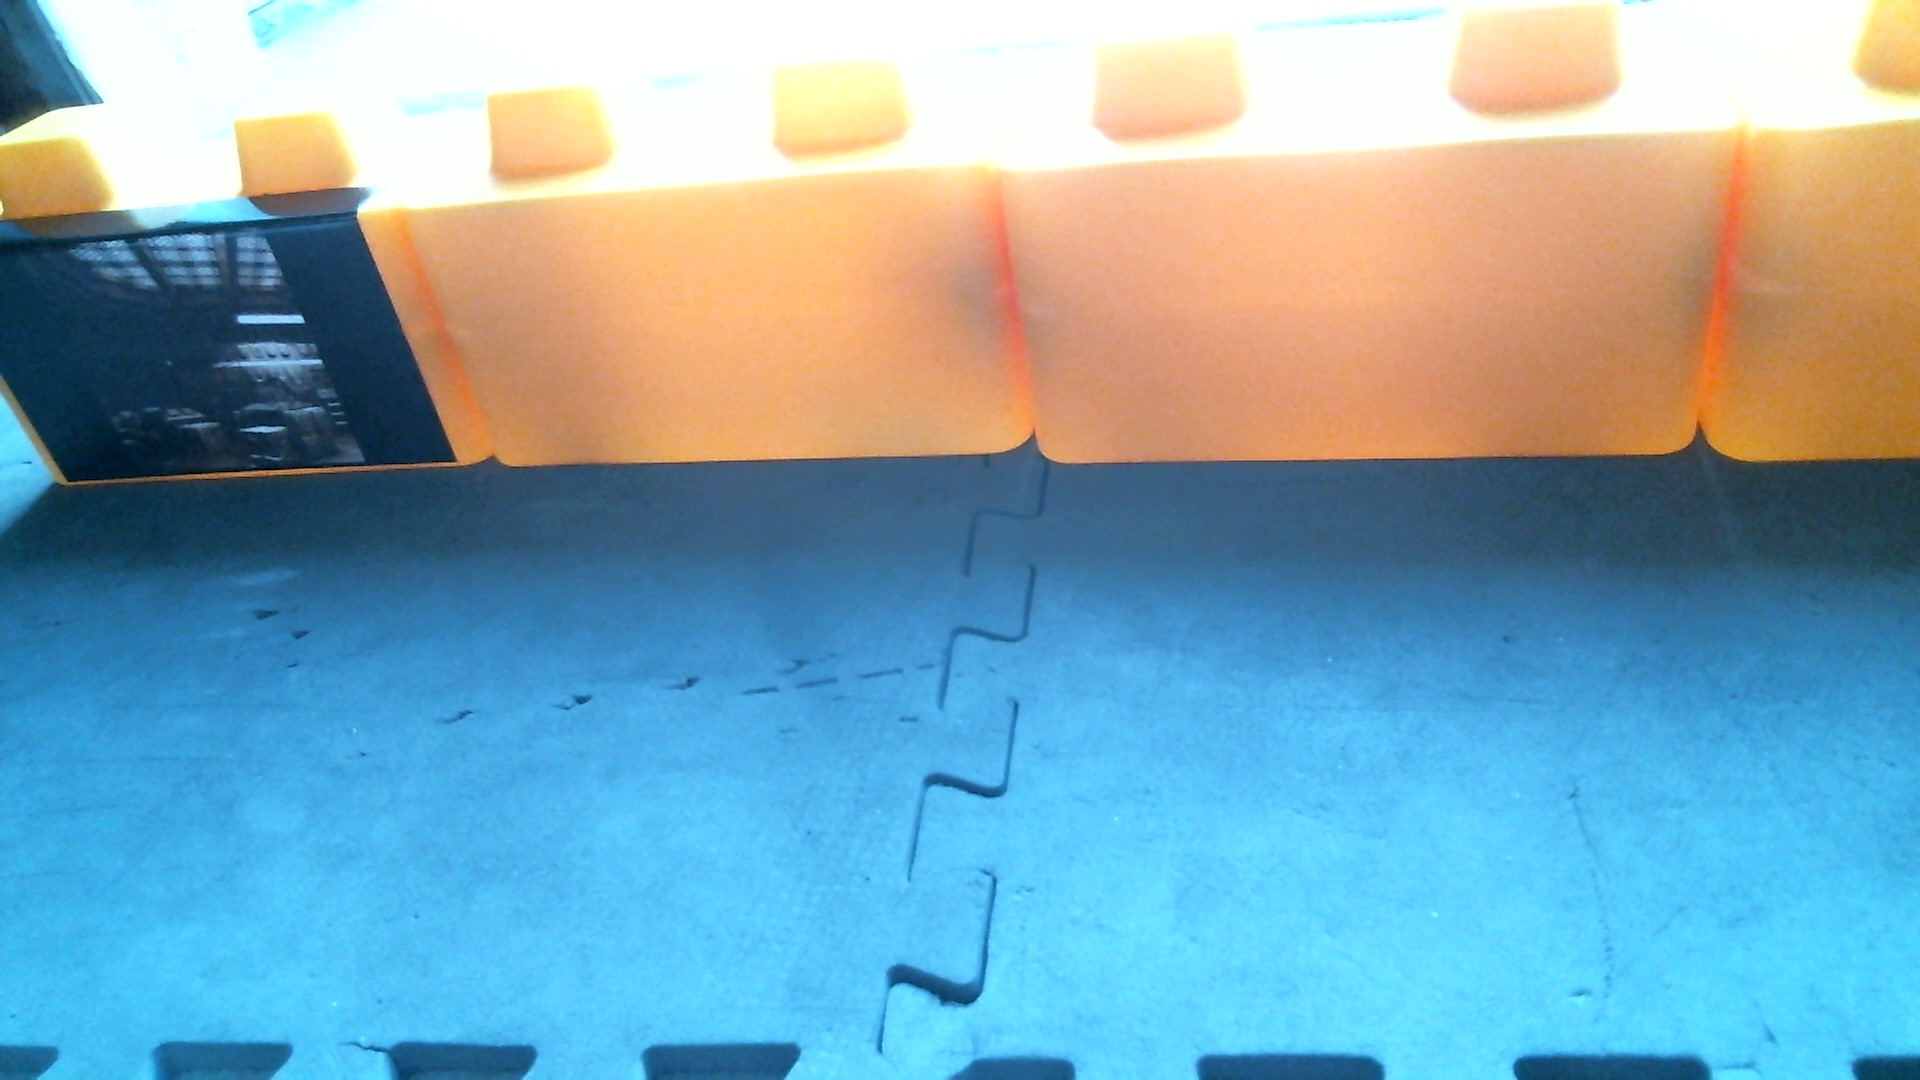left: (4, 1, 1807, 492)
